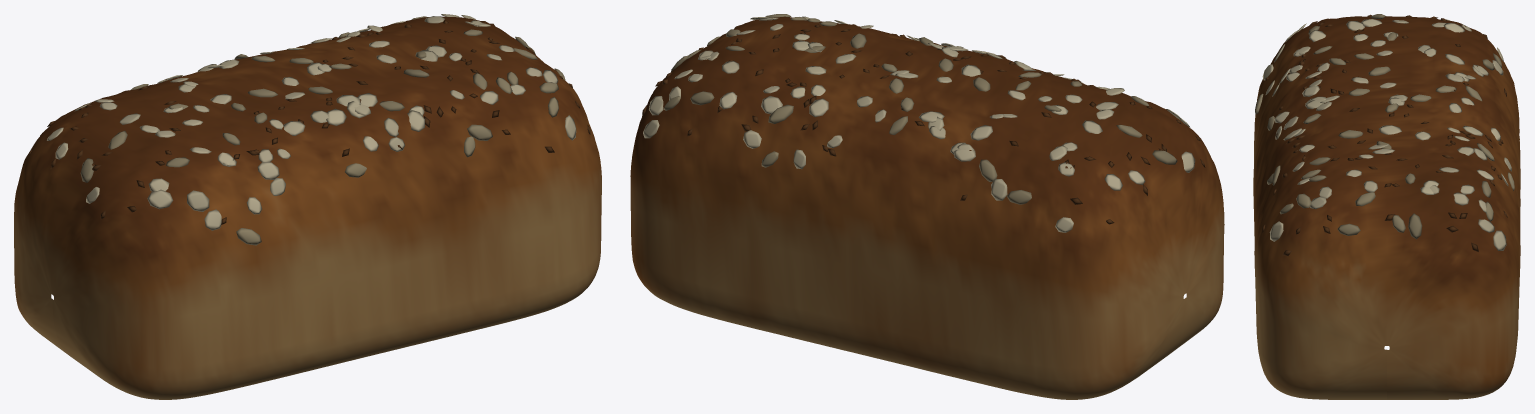
File: feel-happy-500g.glb
3 renders of one model, left to right at view 1: azimuth 30°, elevation 25°; view 2: azimuth 150°, elevation 25°; view 3: azimuth 270°, elevation 25°, orthographic. The views are drawn at different scales.
Visible parts, largest first — view 1: feel-happy-500g; view 2: feel-happy-500g; view 3: feel-happy-500g.
Boxes of the visible parts, x1,y1,x2,y2 form: feel-happy-500g: (14, 14, 601, 399); feel-happy-500g: (630, 14, 1224, 399); feel-happy-500g: (1253, 14, 1520, 399).
Size of the model in its own units: 0.2 by 0.0909 by 0.1.
